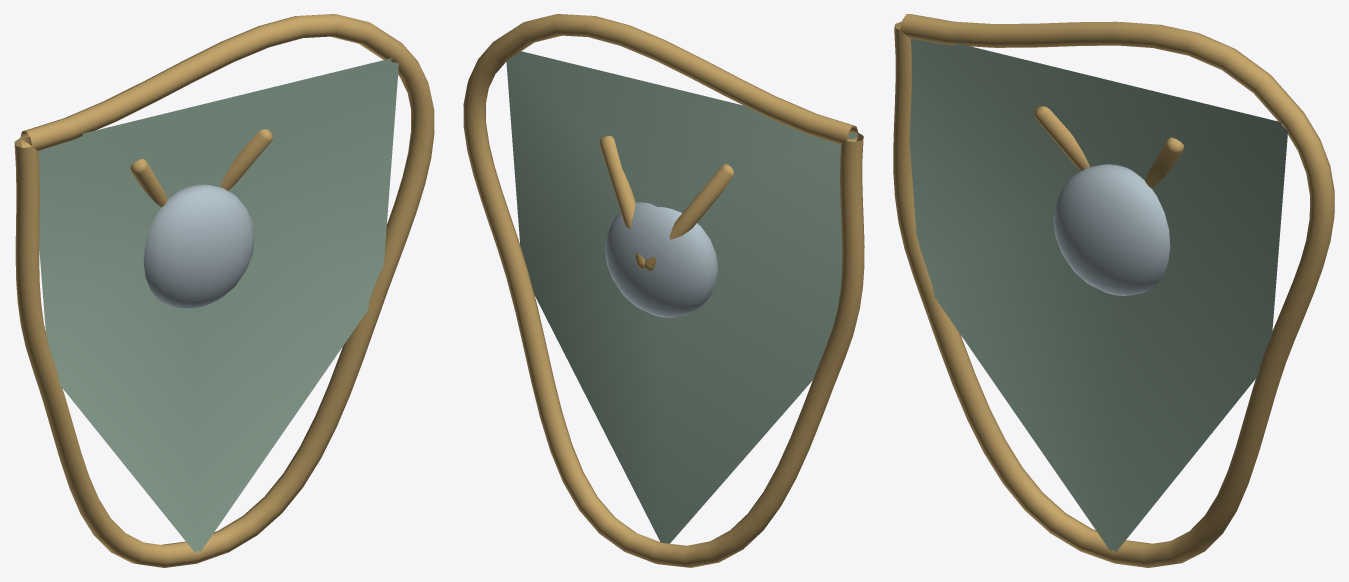
File: grove_shield.glb
The picture shows the model from 3 angles, left to right: view 1: azimuth 30°, elevation 25°; view 2: azimuth 150°, elevation 25°; view 3: azimuth 330°, elevation 25°; orthographic projection. The views are drawn at different scales.
Visible parts, largest first — view 1: Kite shield, Shield edge, Steel boss, Emblem ray.001, Emblem ray; view 2: Kite shield, Shield edge, Steel boss, Emblem ray, Emblem ray.001; view 3: Kite shield, Shield edge, Steel boss, Emblem ray, Emblem ray.001.
Boxes of the visible parts, x1=… form: Kite shield: x1=31, y1=58, x2=398, y2=552; Shield edge: x1=14, y1=14, x2=434, y2=567; Steel boss: x1=143, y1=184, x2=254, y2=309; Emblem ray.001: x1=220, y1=129, x2=273, y2=190; Emblem ray: x1=130, y1=159, x2=167, y2=207; Kite shield: x1=506, y1=51, x2=857, y2=543; Shield edge: x1=463, y1=14, x2=864, y2=567; Steel boss: x1=605, y1=202, x2=718, y2=317; Emblem ray: x1=644, y1=164, x2=733, y2=270; Emblem ray.001: x1=599, y1=135, x2=645, y2=268; Kite shield: x1=909, y1=38, x2=1287, y2=551; Shield edge: x1=893, y1=14, x2=1334, y2=567; Steel boss: x1=1053, y1=164, x2=1170, y2=295; Emblem ray: x1=1034, y1=106, x2=1089, y2=170; Emblem ray.001: x1=1145, y1=137, x2=1184, y2=188.
Bounding box in the file's own units: 0.9507 × 1.17 × 0.1622.
